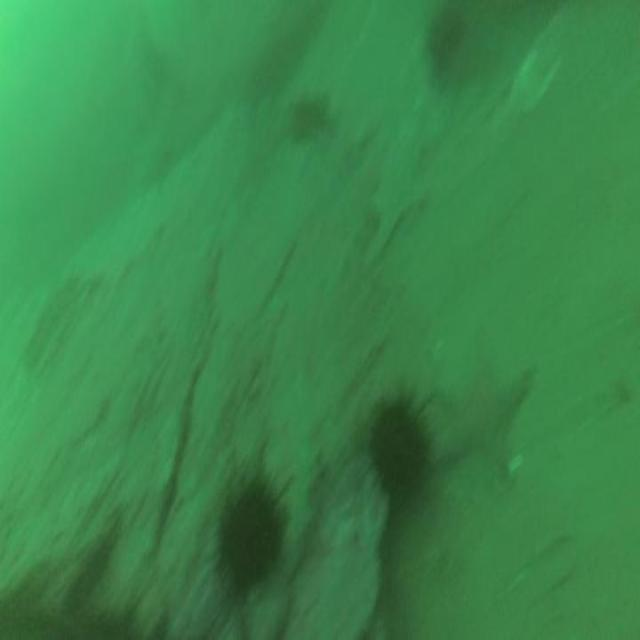echinus: (205, 458, 302, 612), (356, 378, 446, 524)
starfish: (435, 354, 535, 493)
